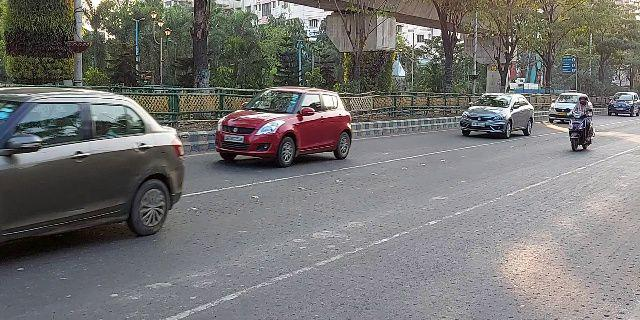Car: (1, 86, 190, 248), (213, 83, 354, 167), (459, 89, 536, 140), (549, 90, 594, 122), (607, 88, 640, 120)
Motorbike: (565, 93, 596, 156)
